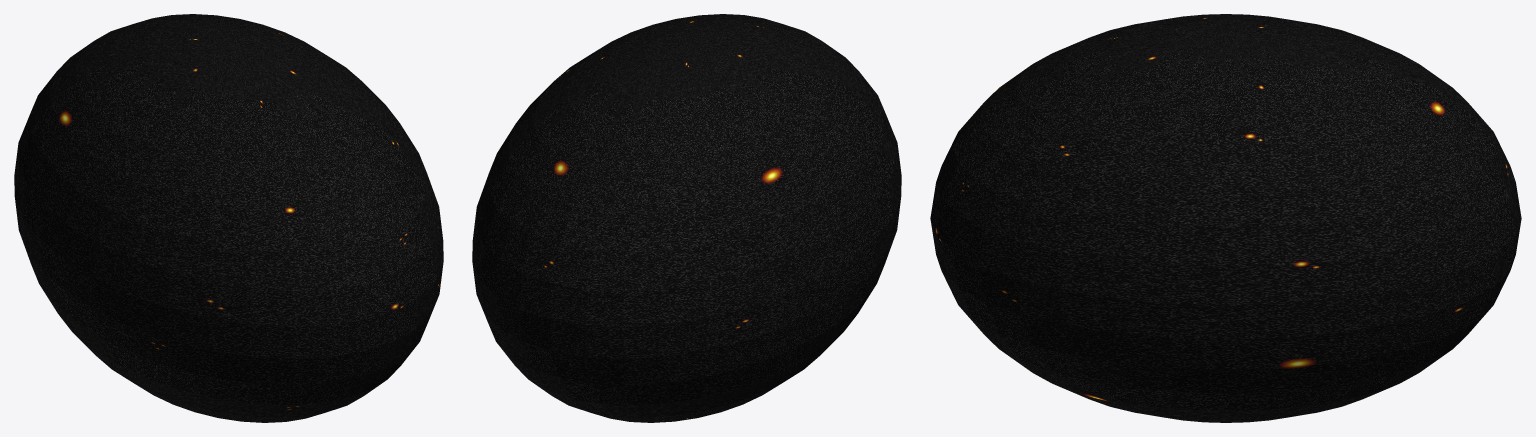
The model's file is player.obj.
The picture shows the model from 3 angles, left to right: view 1: azimuth 30°, elevation 25°; view 2: azimuth 150°, elevation 25°; view 3: azimuth 270°, elevation 25°; orthographic projection. The views are drawn at different scales.
Parts seen in each view (by area): view 1: 球; view 2: 球; view 3: 球.
Part boxes in pixels (x1=…): 球: x1=14, y1=14, x2=443, y2=422; 球: x1=472, y1=14, x2=901, y2=422; 球: x1=930, y1=14, x2=1521, y2=422.
Bounding box in the file's own units: 0.8657 × 0.8657 × 1.25.
